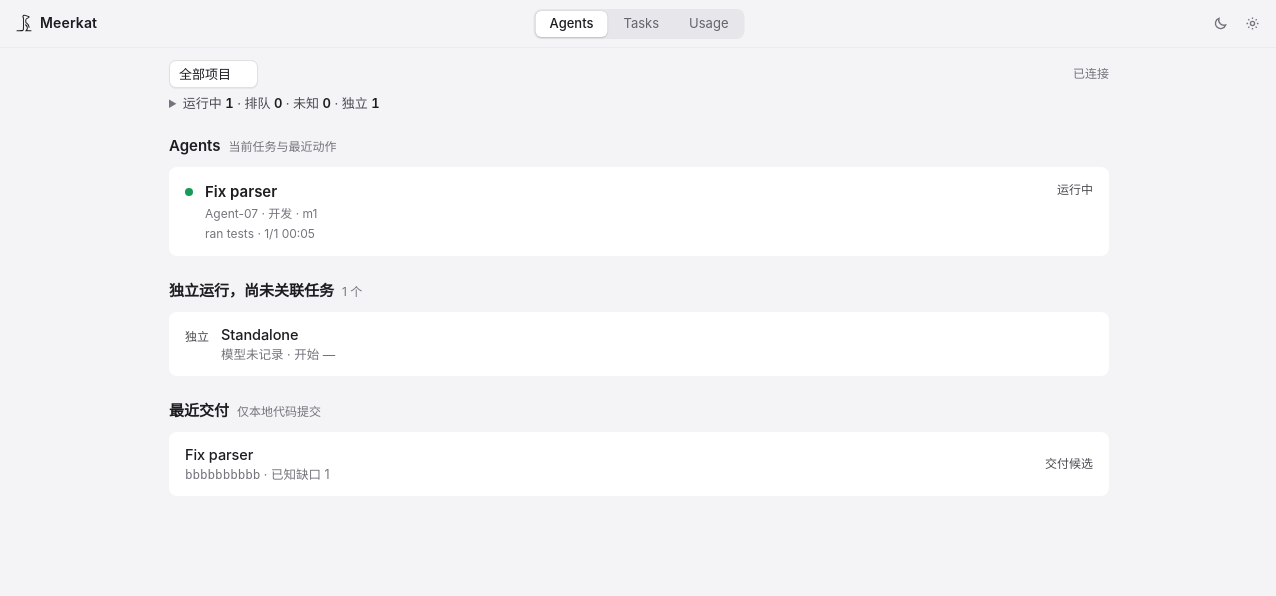
Test case: App › shows agent rows with Agent-NN for historical Pi-NN and custom IDs unchanged; dedups legacy runs
The width and height of the screenshot is (1276, 596).
Click the button with class "row-btn" at x=241, y=191, box [169,167,1109,256]
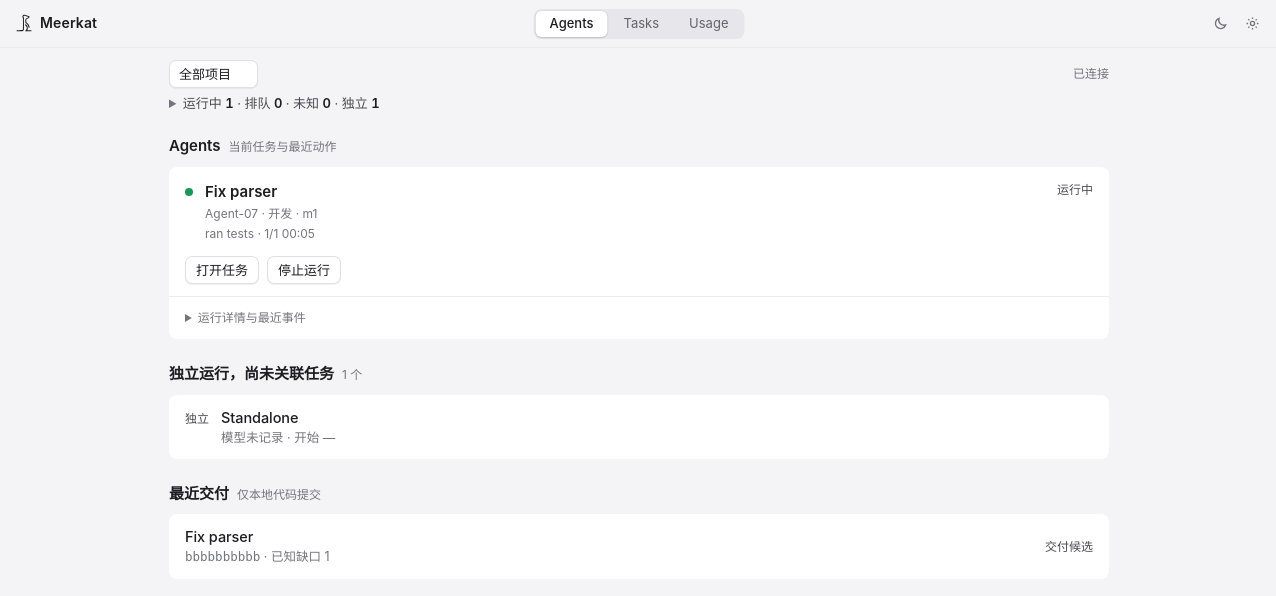
Expected: the number of elements with test id "independent-row" is 1, [185,408,335,444]
Click the button "Usage" at x=709, y=24, box [675,10,742,36]
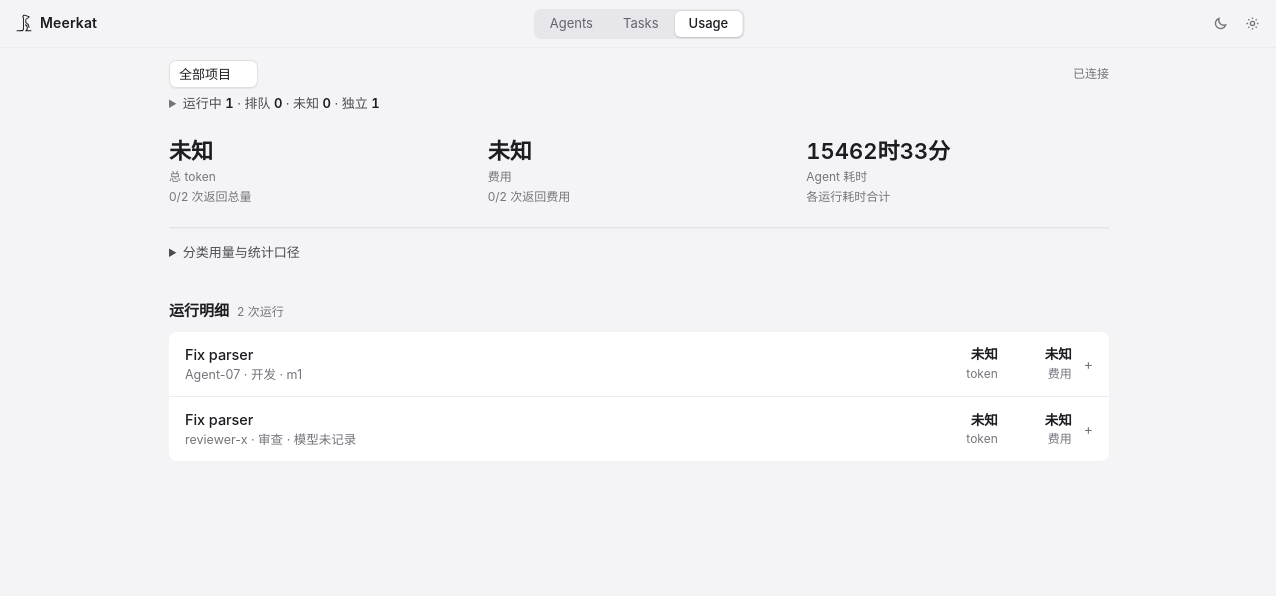
Expected: the text "reviewer-x · 审查 · 模型未记录" is shown, [185,432,356,447]
